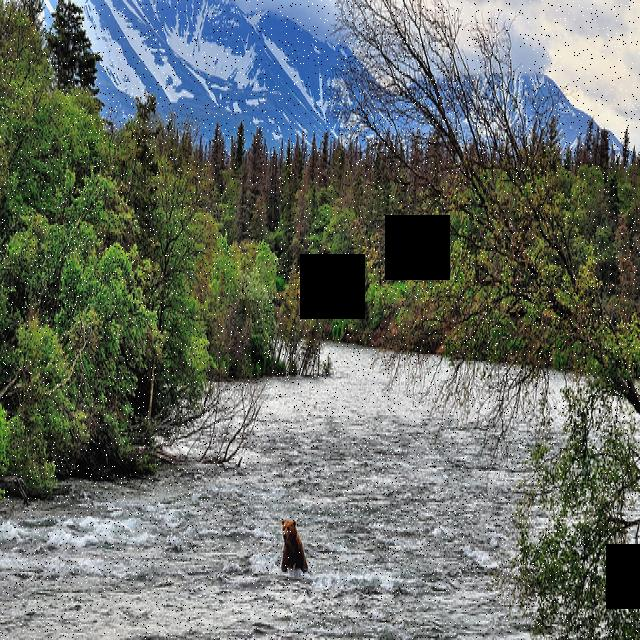Bear: (274, 512, 309, 566)
